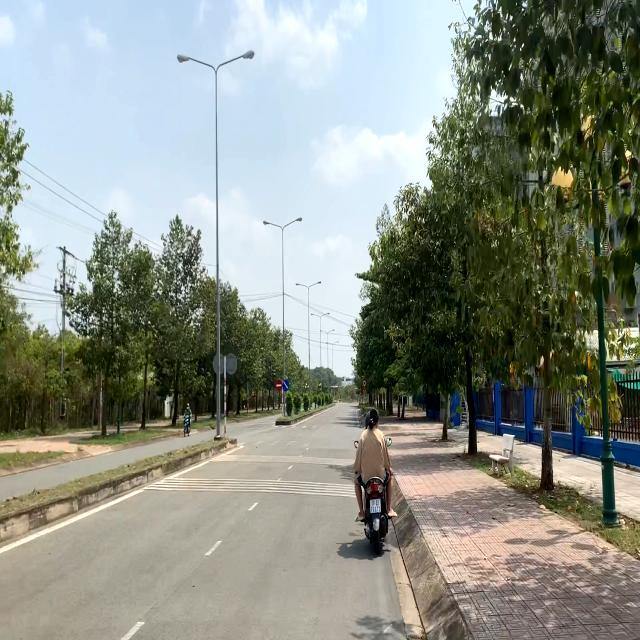P-102: (276, 379, 282, 392)
R-302a: (283, 380, 289, 391)
